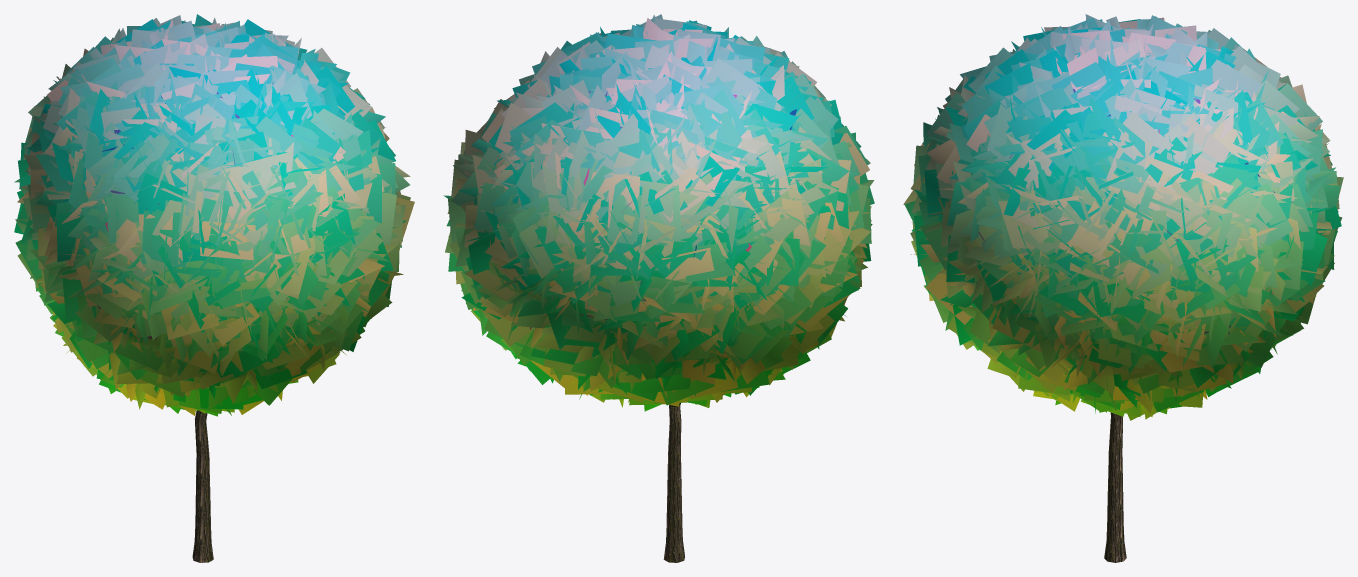
Rendered from TR_XaCu_0.fbx.
3 views of the same model, side by side, from view 1: azimuth 30°, elevation 25°; view 2: azimuth 150°, elevation 25°; view 3: azimuth 270°, elevation 25° (orthographic). The views are drawn at different scales.
Visible parts, largest first — view 1: TR_XaCu_0_LOD0; view 2: TR_XaCu_0_LOD0; view 3: TR_XaCu_0_LOD0.
Part boxes in pixels (bbox=[...]): TR_XaCu_0_LOD0: bbox=[14, 14, 414, 562]; TR_XaCu_0_LOD0: bbox=[443, 14, 874, 562]; TR_XaCu_0_LOD0: bbox=[903, 14, 1343, 562].
Size of what is drawn, in the model's own units: 11.26 by 15.83 by 12.
